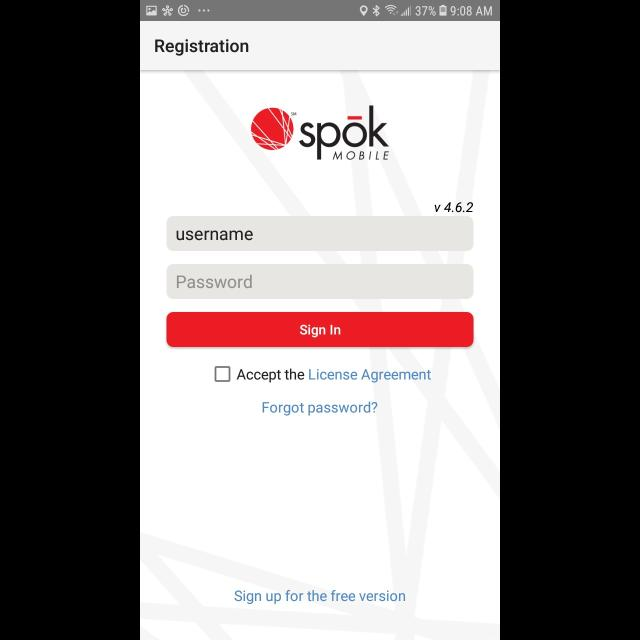backgroundimage: (140, 70, 500, 640)
checkbox: (214, 366, 230, 382)
image: (250, 106, 390, 160)
input: (166, 216, 474, 252), (166, 264, 474, 300)
text: (236, 369, 432, 383), (234, 590, 406, 604), (262, 402, 378, 416), (155, 40, 249, 56), (178, 275, 252, 289), (177, 231, 253, 241), (434, 202, 474, 212)
textbutton: (166, 312, 474, 348)
uppertaskbar: (140, 1, 500, 22)
